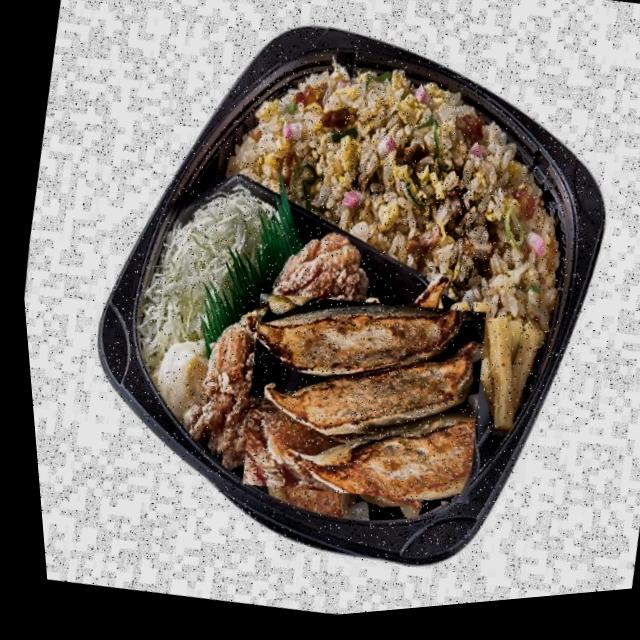Food: (220, 267, 492, 540)
